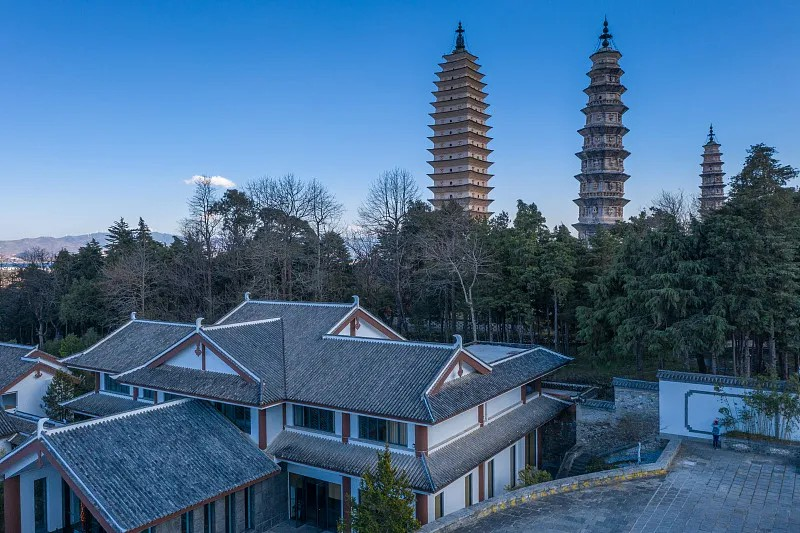ThreePagoda: (426, 21, 495, 221)
